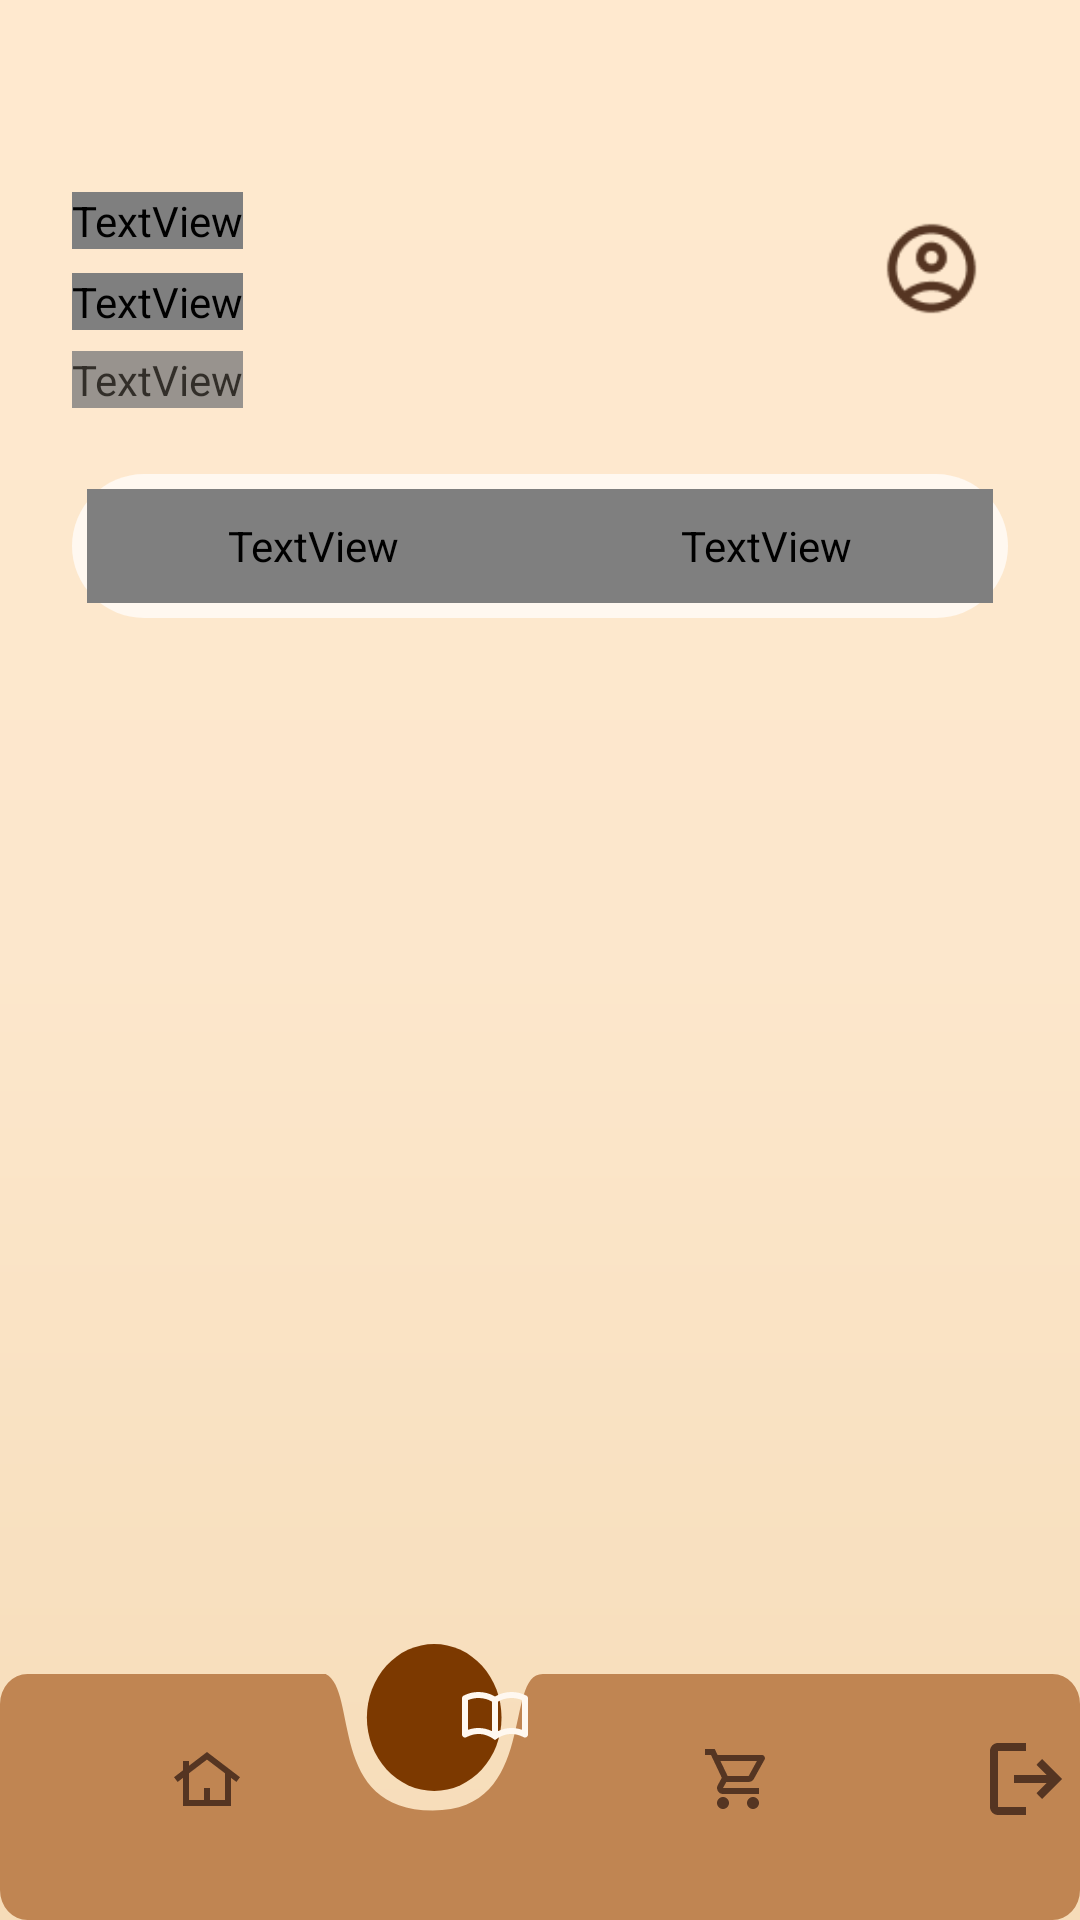

Screen size 1080×1920. Icon name, then its center in pixels as (x,y):
account circle: (931,268)
Books: (495,1716)
Home: (207,1779)
Stores: (735,1779)
